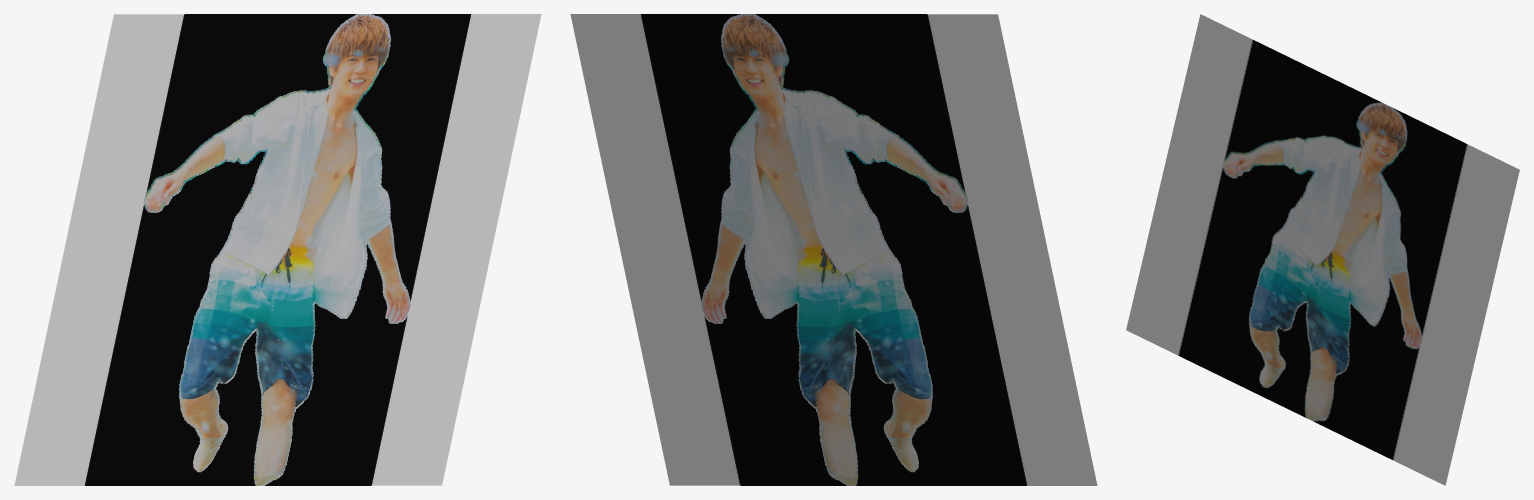
Rendered from sou_okuno_3.gltf.
The picture shows the model from 3 angles, left to right: view 1: azimuth 30°, elevation 25°; view 2: azimuth 150°, elevation 25°; view 3: azimuth 330°, elevation 25°; orthographic projection. The views are drawn at different scales.
Parts seen in each view (by area): view 1: 平面; view 2: 平面; view 3: 平面.
Boxes of the visible parts, bbox=[...] form: 平面: bbox=[14, 14, 541, 485]; 平面: bbox=[570, 14, 1097, 485]; 平面: bbox=[1126, 14, 1519, 485].
Bounding box in the file's own units: 12.01 × 12.01 × 2.22e-15.
Materials: 1 (1 with a texture image).
